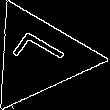L_SE: (6, 30, 72, 83)
